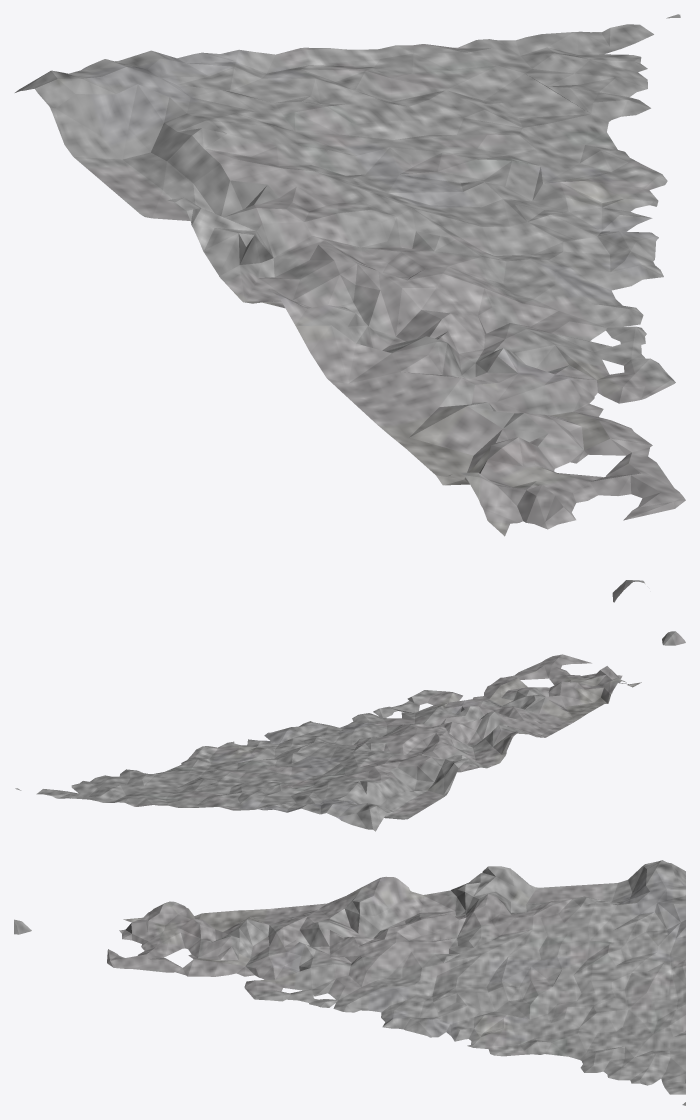
The picture shows the model from 3 angles, top to bottom: view 1: azimuth 30°, elevation 25°; view 2: azimuth 150°, elevation 25°; view 3: azimuth 270°, elevation 25°; orthographic projection. The views are drawn at different scales.
Size of the model in its own units: 1.1 by 0.1741 by 1.67.
Materials: 1 (1 with a texture image).
